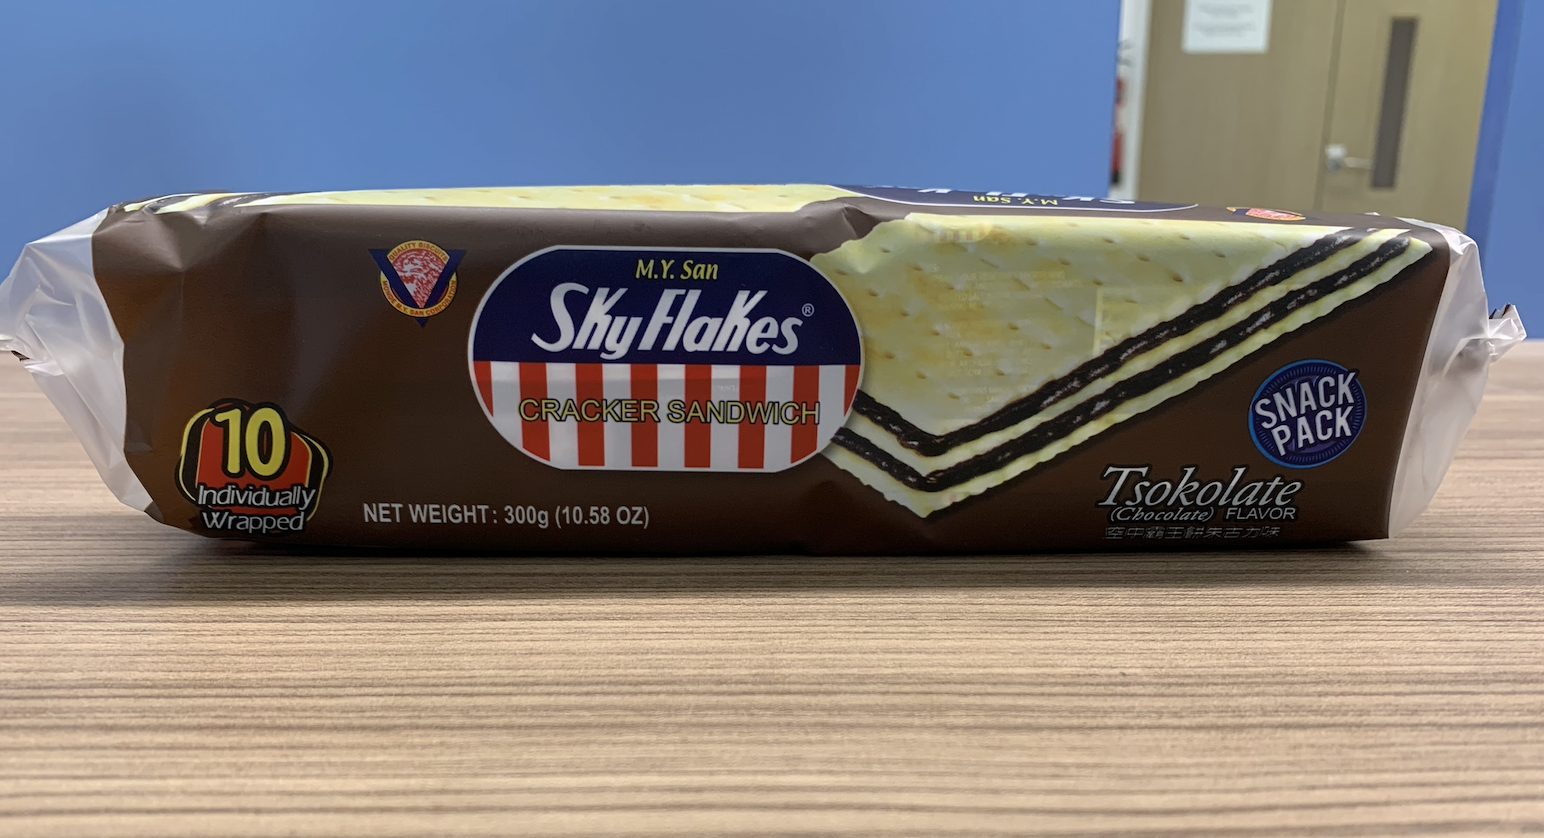crackers_450g: (172, 226, 1364, 537)
